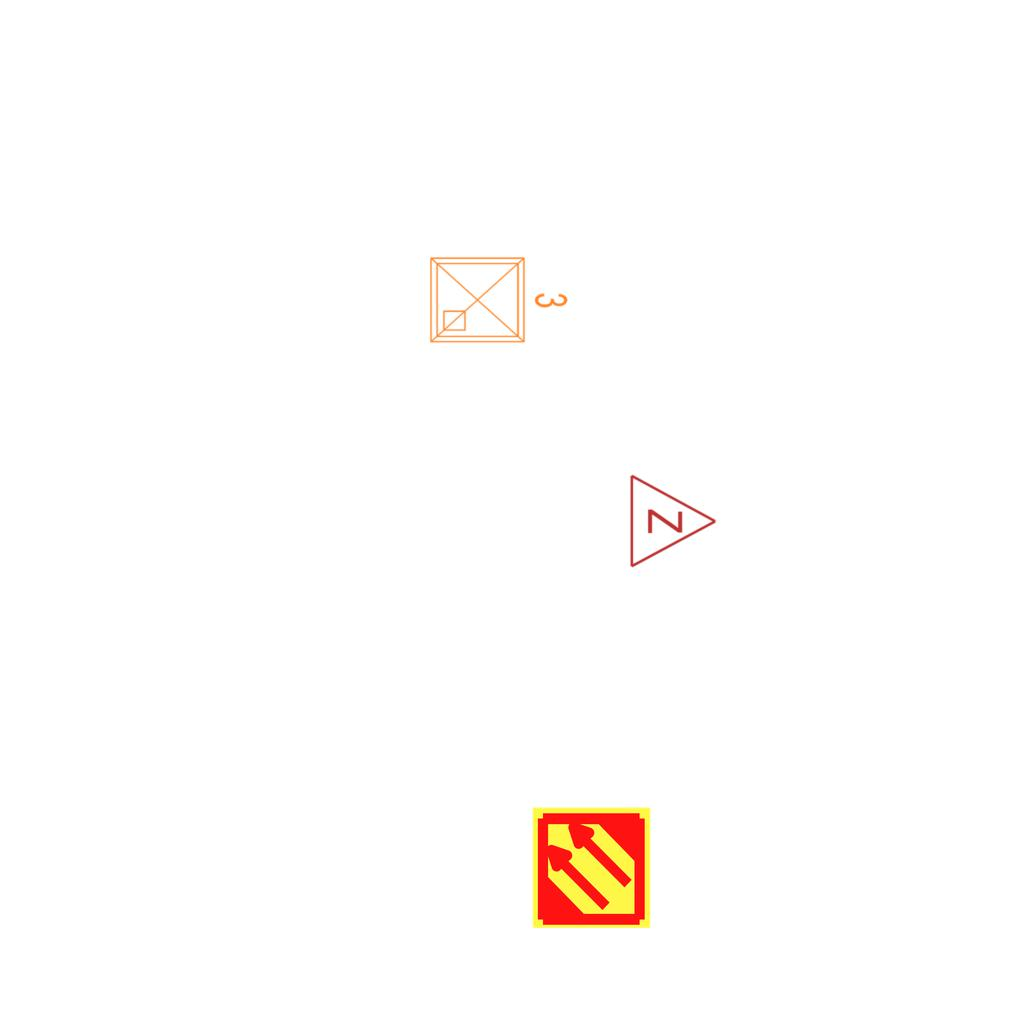ASR_Ansaugrauchmelder: (529, 805, 654, 930)
Einbaudownlights_LED_Konferenzraeume: (423, 246, 573, 350)
Zimmersignalleuchte: (623, 471, 723, 569)
